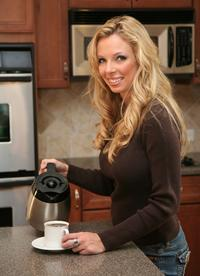person: (39, 15, 191, 276)
